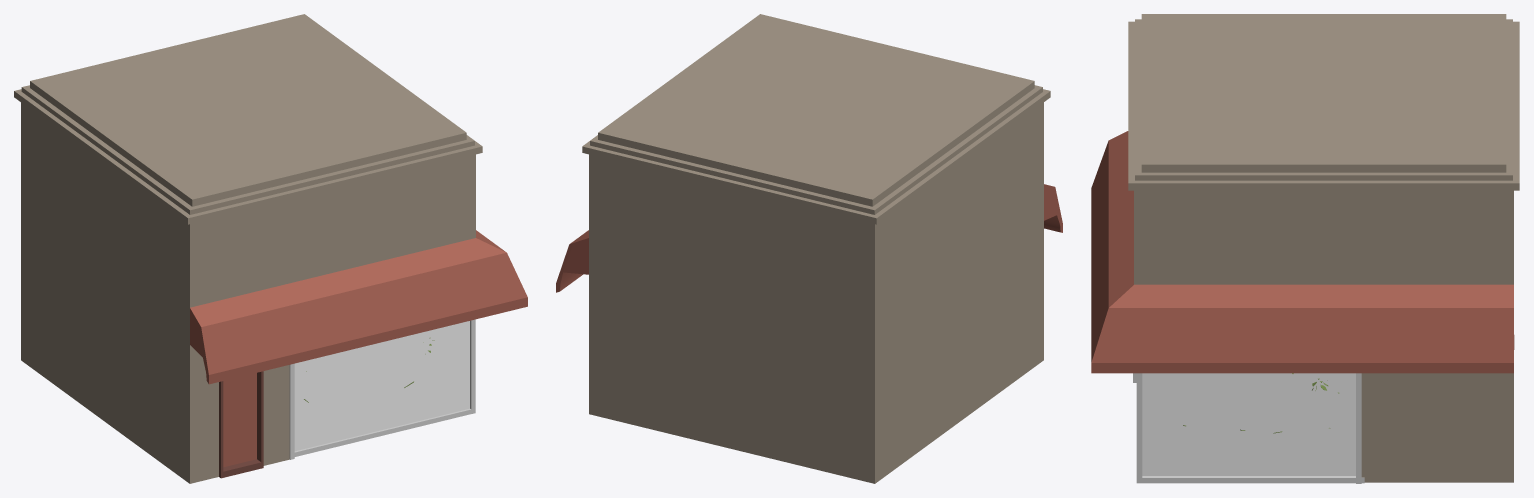
File: corner_store2.fbx
3 renders of one model, left to right at view 1: azimuth 30°, elevation 25°; view 2: azimuth 150°, elevation 25°; view 3: azimuth 270°, elevation 25°, orthographic. The views are drawn at different scales.
Visible parts, largest first — view 1: polySurface1515; view 2: polySurface1515; view 3: polySurface1515.
Boxes of the visible parts, x1,y1,x2,y2 form: polySurface1515: (14,14,527,483); polySurface1515: (556,14,1062,483); polySurface1515: (1091,14,1519,483).
Size of the model in its own units: 4.42 by 3.71 by 4.51.
